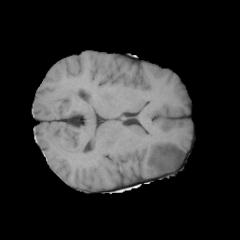glioma: (147, 141, 185, 174)
